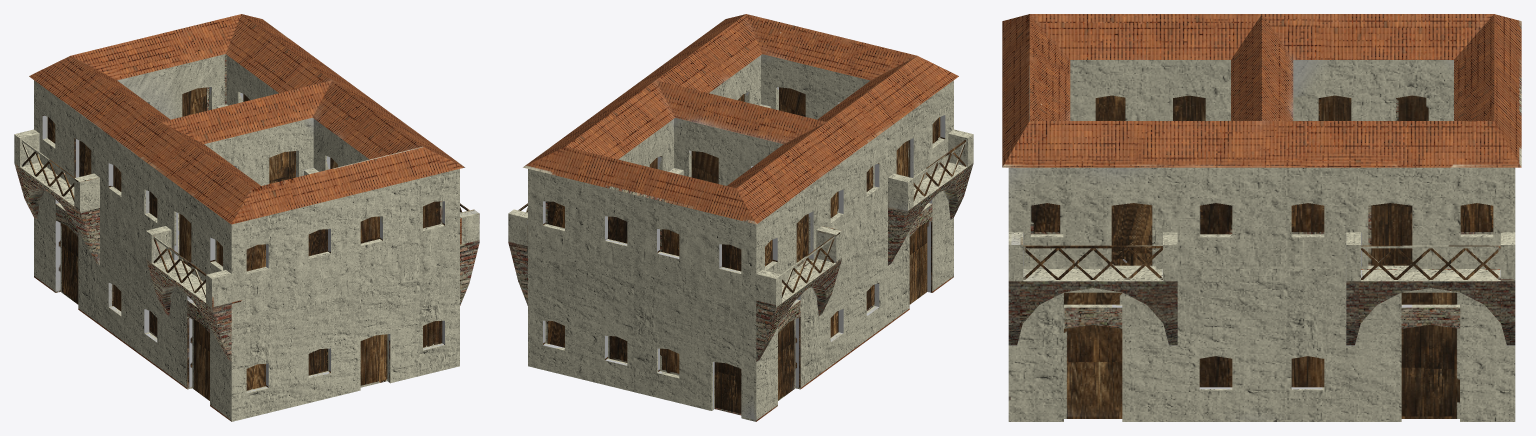
The model's file is bina1.fbx.
3 renders of one model, left to right at view 1: azimuth 30°, elevation 25°; view 2: azimuth 150°, elevation 25°; view 3: azimuth 270°, elevation 25°, orthographic. The views are drawn at different scales.
Visible parts, largest first — view 1: insula1; view 2: insula1; view 3: insula1.
Part boxes in pixels (x1,y1,x2,y2): insula1: (14,14,479,421); insula1: (508,14,973,421); insula1: (1002,14,1521,421).
Size of the model in its own units: 53.13 by 67.5 by 88.41.
